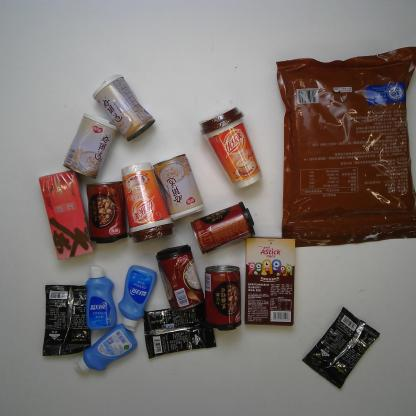Canned Food: (93, 74, 155, 142), (62, 112, 117, 180), (150, 153, 206, 219), (188, 202, 256, 254), (154, 244, 203, 311), (203, 264, 243, 334), (84, 182, 126, 247)
Dessert: (240, 235, 298, 330)
Dried Food: (274, 45, 416, 248)
Instant Drink: (301, 306, 380, 390), (199, 107, 264, 190), (37, 169, 94, 262), (119, 161, 174, 244), (40, 283, 94, 357), (144, 306, 218, 360)
Personal Hygiene: (74, 323, 137, 374), (114, 264, 157, 331), (85, 266, 117, 329)
